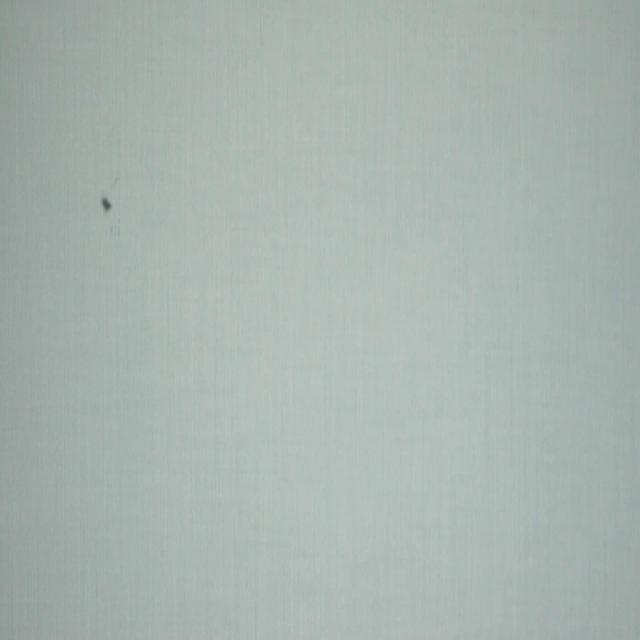dirty: (102, 198, 113, 214)
